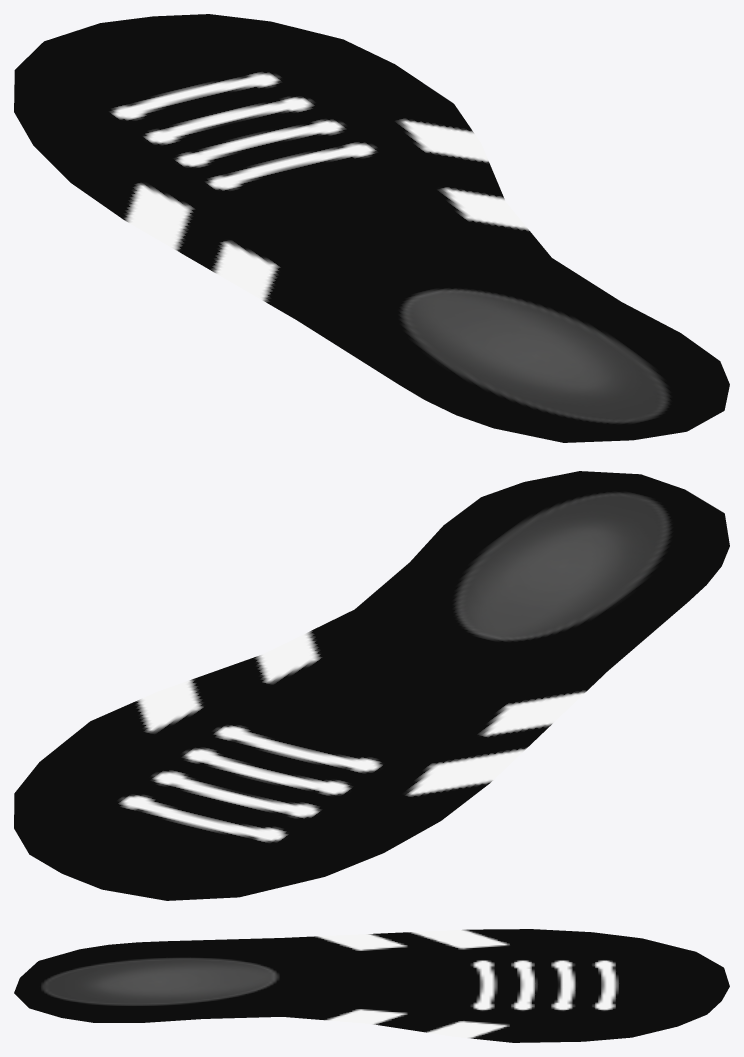
The model's file is equipment_0032_flatshoeleft.glb.
3 renders of one model, top to bottom at view 1: azimuth 30°, elevation 25°; view 2: azimuth 150°, elevation 25°; view 3: azimuth 270°, elevation 25°, orthographic. The views are drawn at different scales.
Parts seen in each view (by area): view 1: flatshoeleft; view 2: flatshoeleft; view 3: flatshoeleft.
Boxes of the visible parts, x1=… form: flatshoeleft: x1=14, y1=14, x2=729, y2=442; flatshoeleft: x1=14, y1=471, x2=729, y2=900; flatshoeleft: x1=14, y1=929, x2=729, y2=1042.
Bounding box in the file's own units: 14.67 × 0 × 38.97.
1 material, 1 textured.
